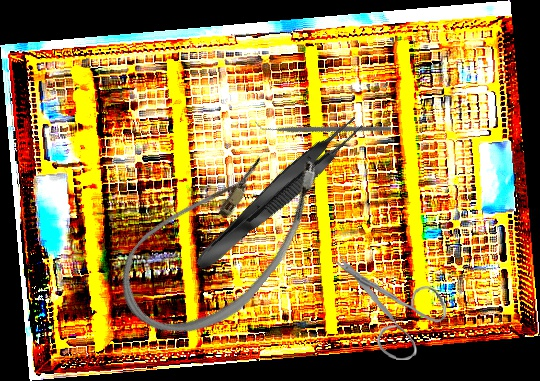Cannula: (101, 109, 342, 366)
Chopper: (253, 60, 393, 190)
Iris Scissors: (326, 254, 449, 362)
Tissue Forceps: (188, 110, 369, 277)
